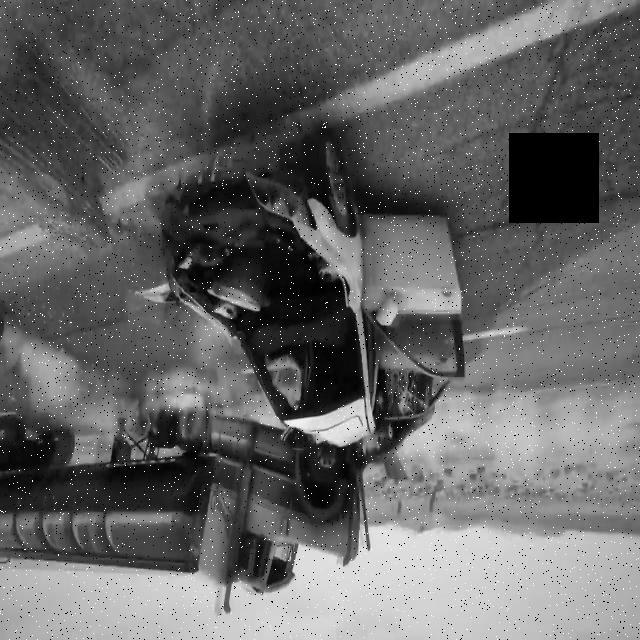severe: (2, 365, 444, 623), (156, 118, 468, 448)
